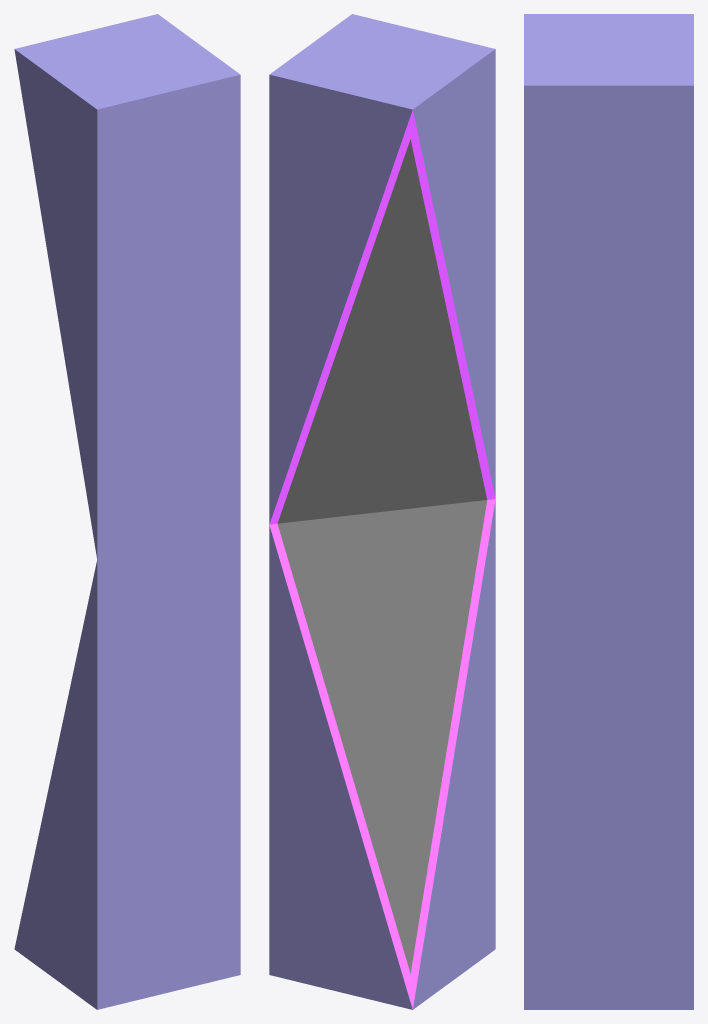
The model's file is TunnelCorner.FBX.
The picture shows the model from 3 angles, left to right: view 1: azimuth 30°, elevation 25°; view 2: azimuth 150°, elevation 25°; view 3: azimuth 270°, elevation 25°; orthographic projection. The views are drawn at different scales.
Parts seen in each view (by area): view 1: TunnelCorner; view 2: TunnelCorner; view 3: TunnelCorner.
Boxes of the visible parts, bbox=[...] form: TunnelCorner: bbox=[14, 14, 240, 1009]; TunnelCorner: bbox=[269, 14, 495, 1009]; TunnelCorner: bbox=[524, 14, 693, 1009].
Bounding box in the file's own units: 50 × 50 × 300.
